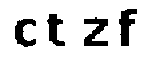c: (7, 17, 40, 49)
f: (112, 4, 139, 55)
t: (41, 12, 70, 53)
z: (80, 18, 114, 52)
